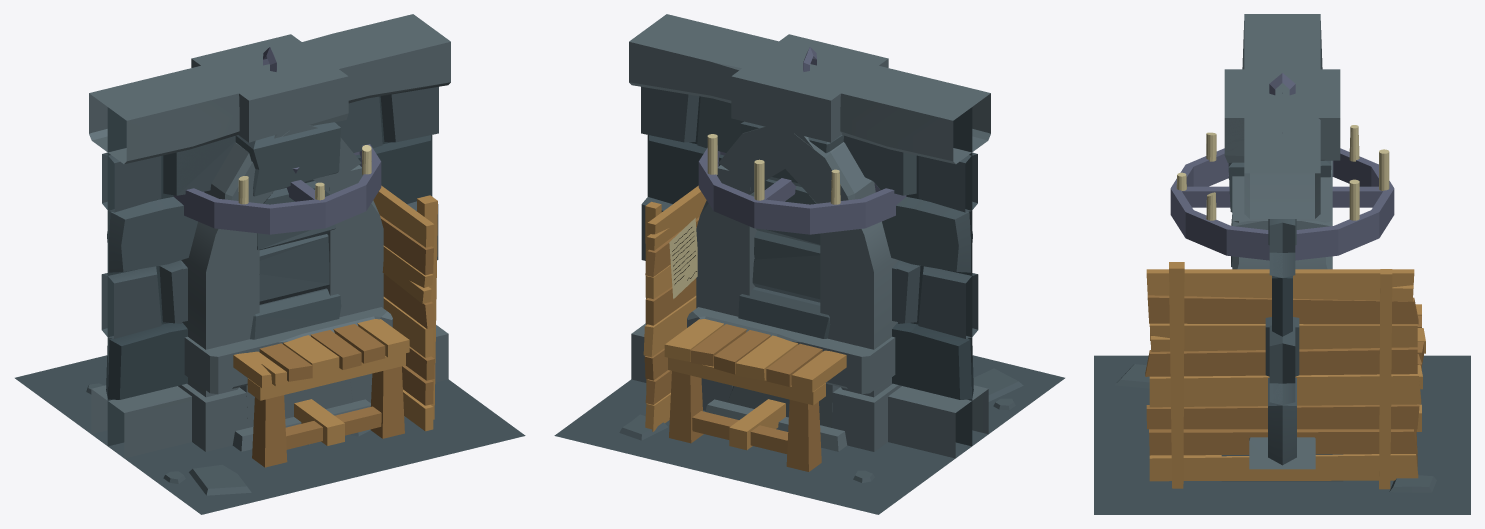
File: Environement02.fbx
3 renders of one model, left to right at view 1: azimuth 30°, elevation 25°; view 2: azimuth 150°, elevation 25°; view 3: azimuth 270°, elevation 25°, orthographic.
Visible parts, largest first — view 1: WallDoor, Column, Ground, WallWindows, Table, Wall, Panneau, Plaffonier, HalfColumn; view 2: WallDoor, WallWindows, Column, Ground, Table, Plaffonier, Panneau, Wall, HalfColumn, FeuilleSimple; view 3: Panneau, Ground, WallDoor, Plaffonier, Column, Wall, WallWindows, HalfColumn, Table.
Boxes of the visible parts, x1,y1,x2,y2 form: WallDoor: (89, 14, 450, 458); Column: (191, 34, 370, 451); Ground: (15, 355, 525, 514); WallWindows: (91, 30, 430, 446); Table: (233, 319, 409, 467); Wall: (107, 28, 449, 409); Panneau: (373, 185, 437, 431); Plaffonier: (173, 47, 381, 234); HalfColumn: (221, 55, 370, 450); WallDoor: (629, 14, 990, 458); WallWindows: (631, 29, 979, 455); Column: (705, 34, 888, 451); Ground: (554, 355, 1064, 514); Table: (664, 319, 846, 471); Plaffonier: (698, 47, 906, 234); Panneau: (643, 185, 706, 431); Wall: (647, 15, 988, 446); HalfColumn: (761, 35, 888, 79); FeuilleSimple: (669, 218, 697, 298); Panneau: (1145, 262, 1421, 489); Ground: (1094, 355, 1470, 514); WallDoor: (1221, 14, 1343, 481); Plaffonier: (1170, 73, 1394, 260); Column: (1224, 69, 1340, 266); Wall: (1242, 14, 1282, 468); WallWindows: (1232, 22, 1332, 468); HalfColumn: (1224, 69, 1282, 266); Table: (1150, 304, 1425, 466).
Size of the model in its own units: 1 by 1 by 1.06.
